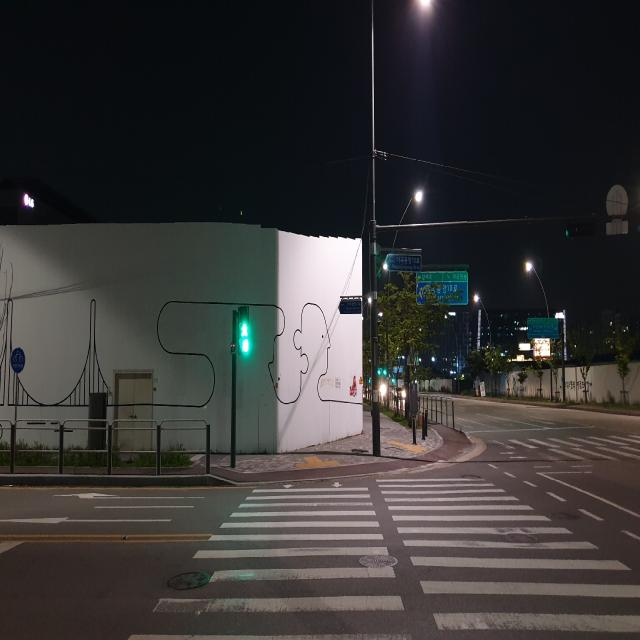초록불: (238, 306, 253, 357)
횡단보도: (130, 473, 640, 640), (483, 434, 640, 468)
